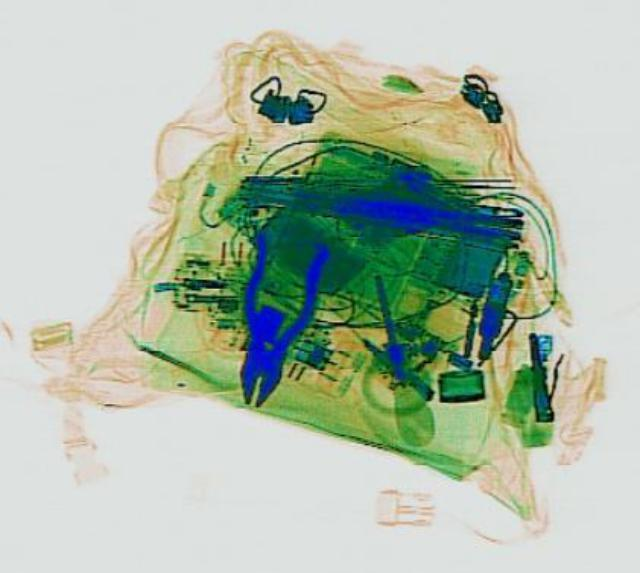Pliers: (209, 229, 331, 410)
